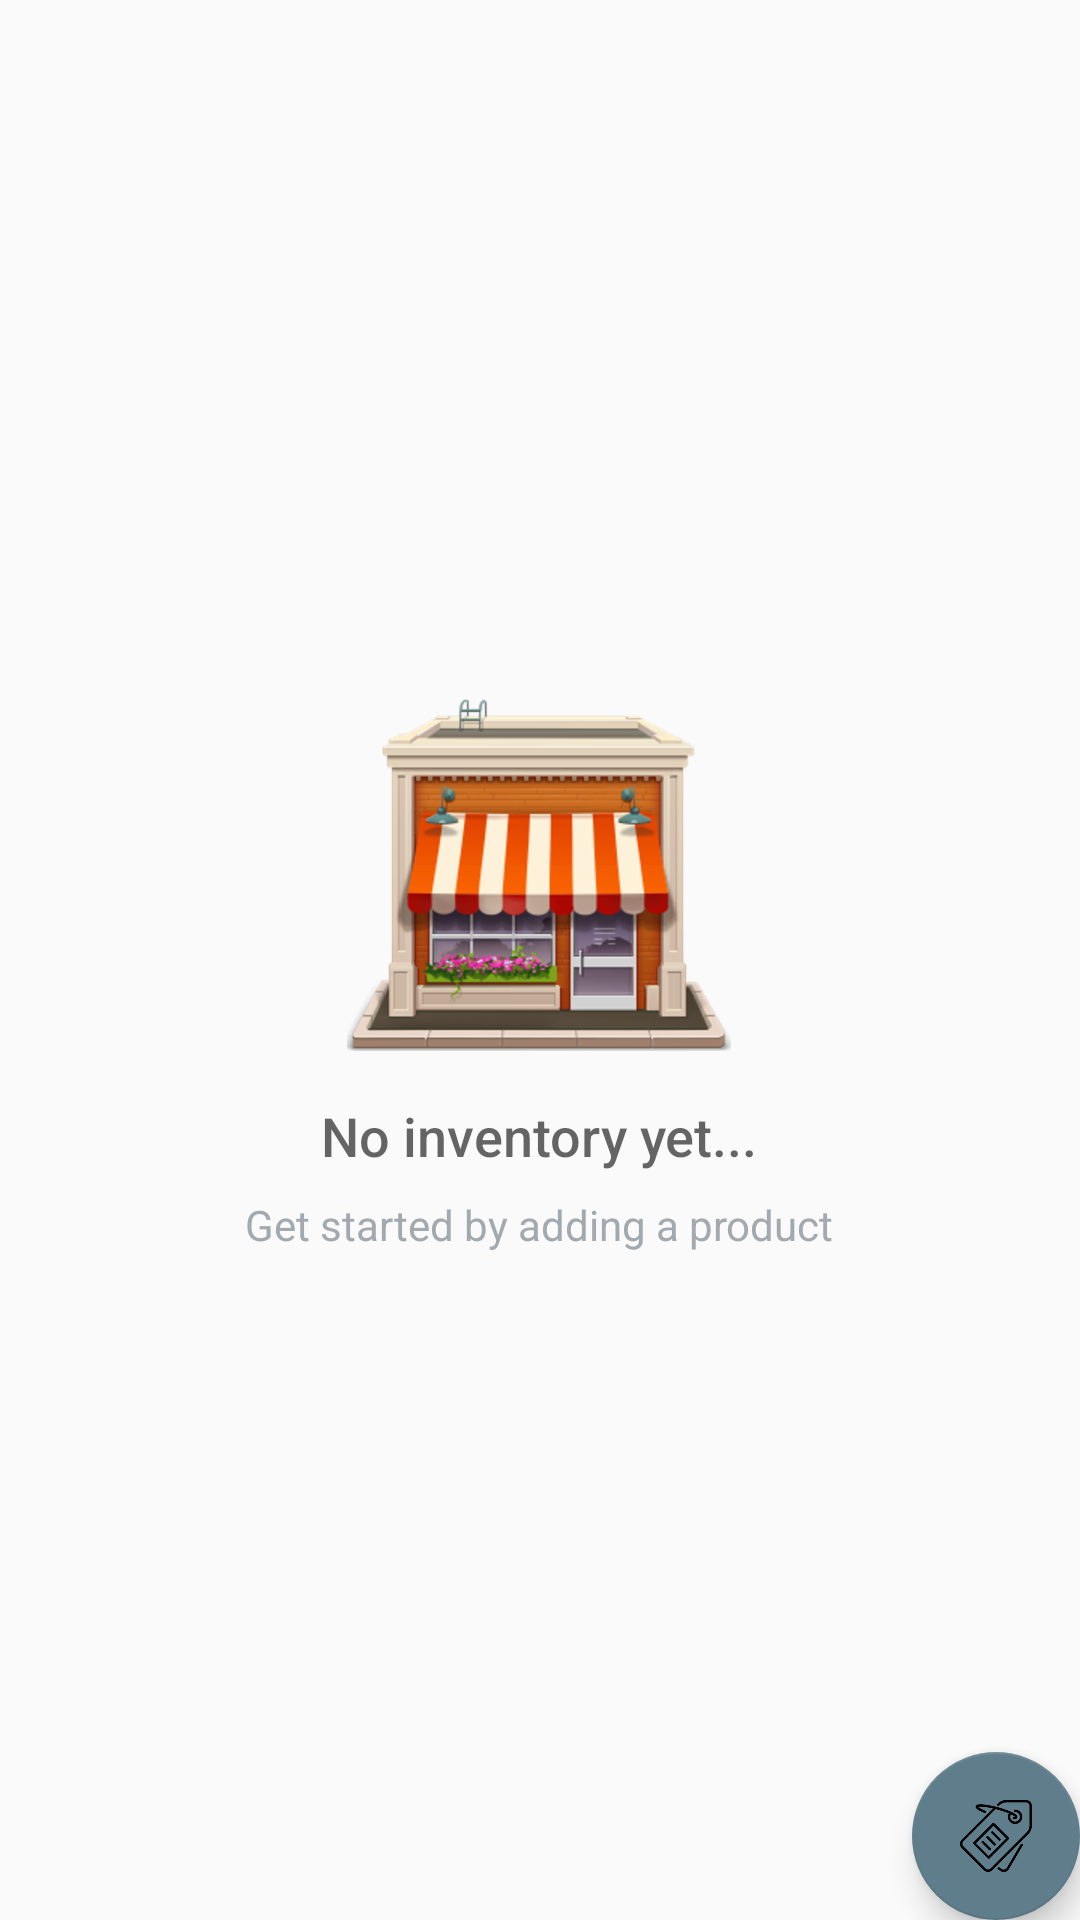

Icon click points for this 1080x1920 phone screenshot, format (x,y):
add product: (996,1836)
